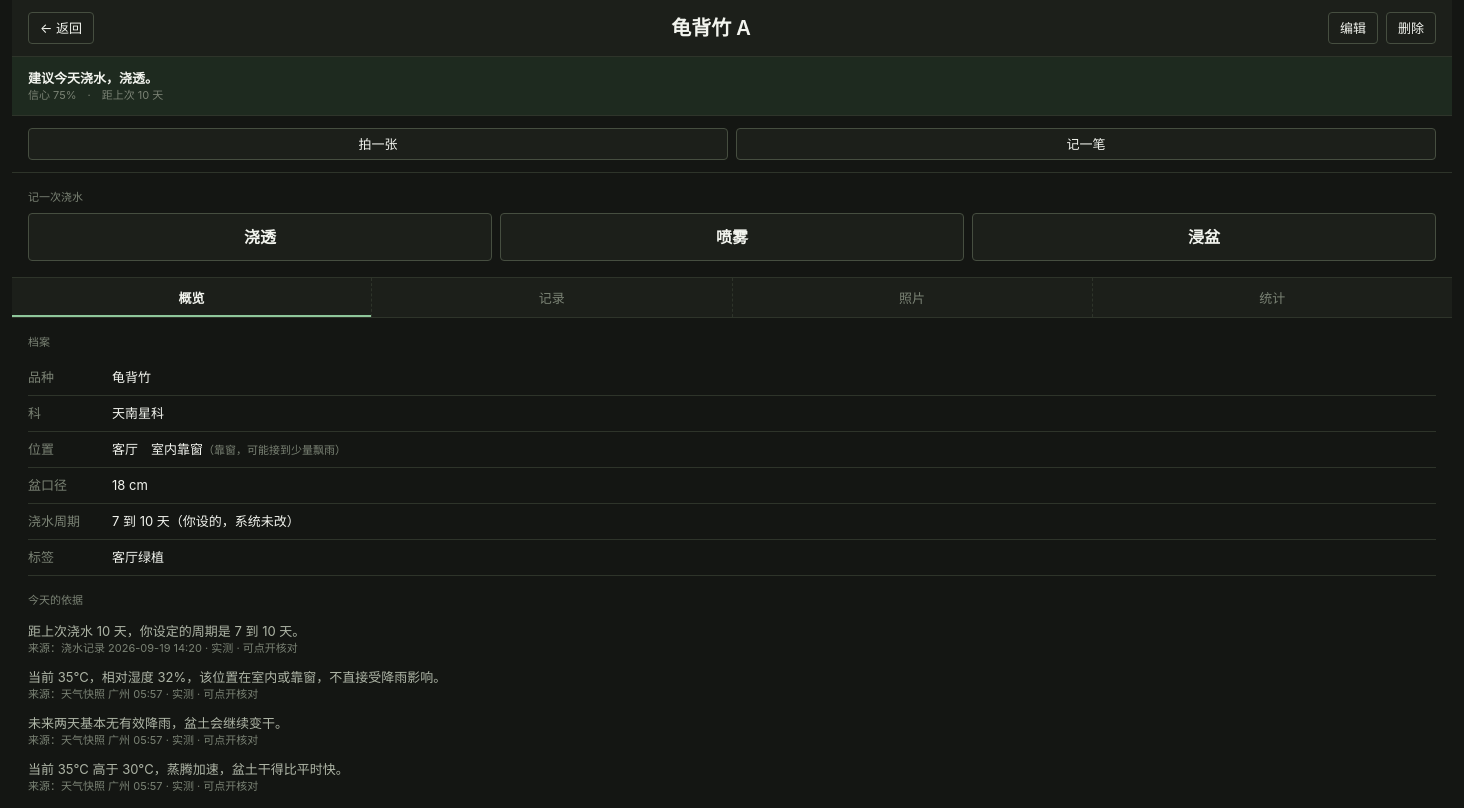
Scenario: 记录 tab：历史与事件分开列 › 浇水记录与全部事件各自成段
Click the button "记录".
click(552, 298)  # box [372,278,733,317]
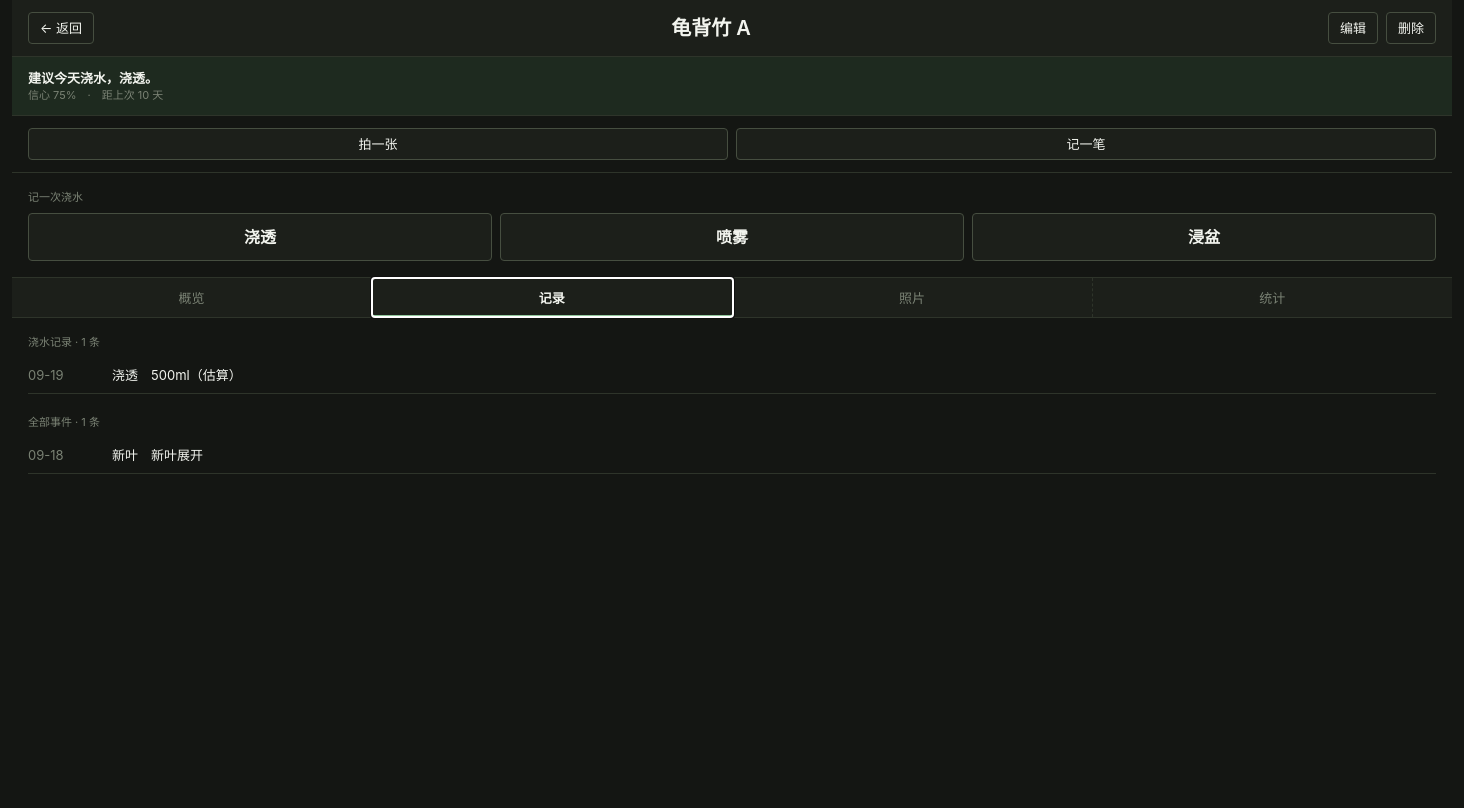
Check: the text "浇水记录 · 1 条" is shown, box [28,335,100,349]
Check: the text "全部事件 · 1 条" is shown, box [28,415,100,429]
